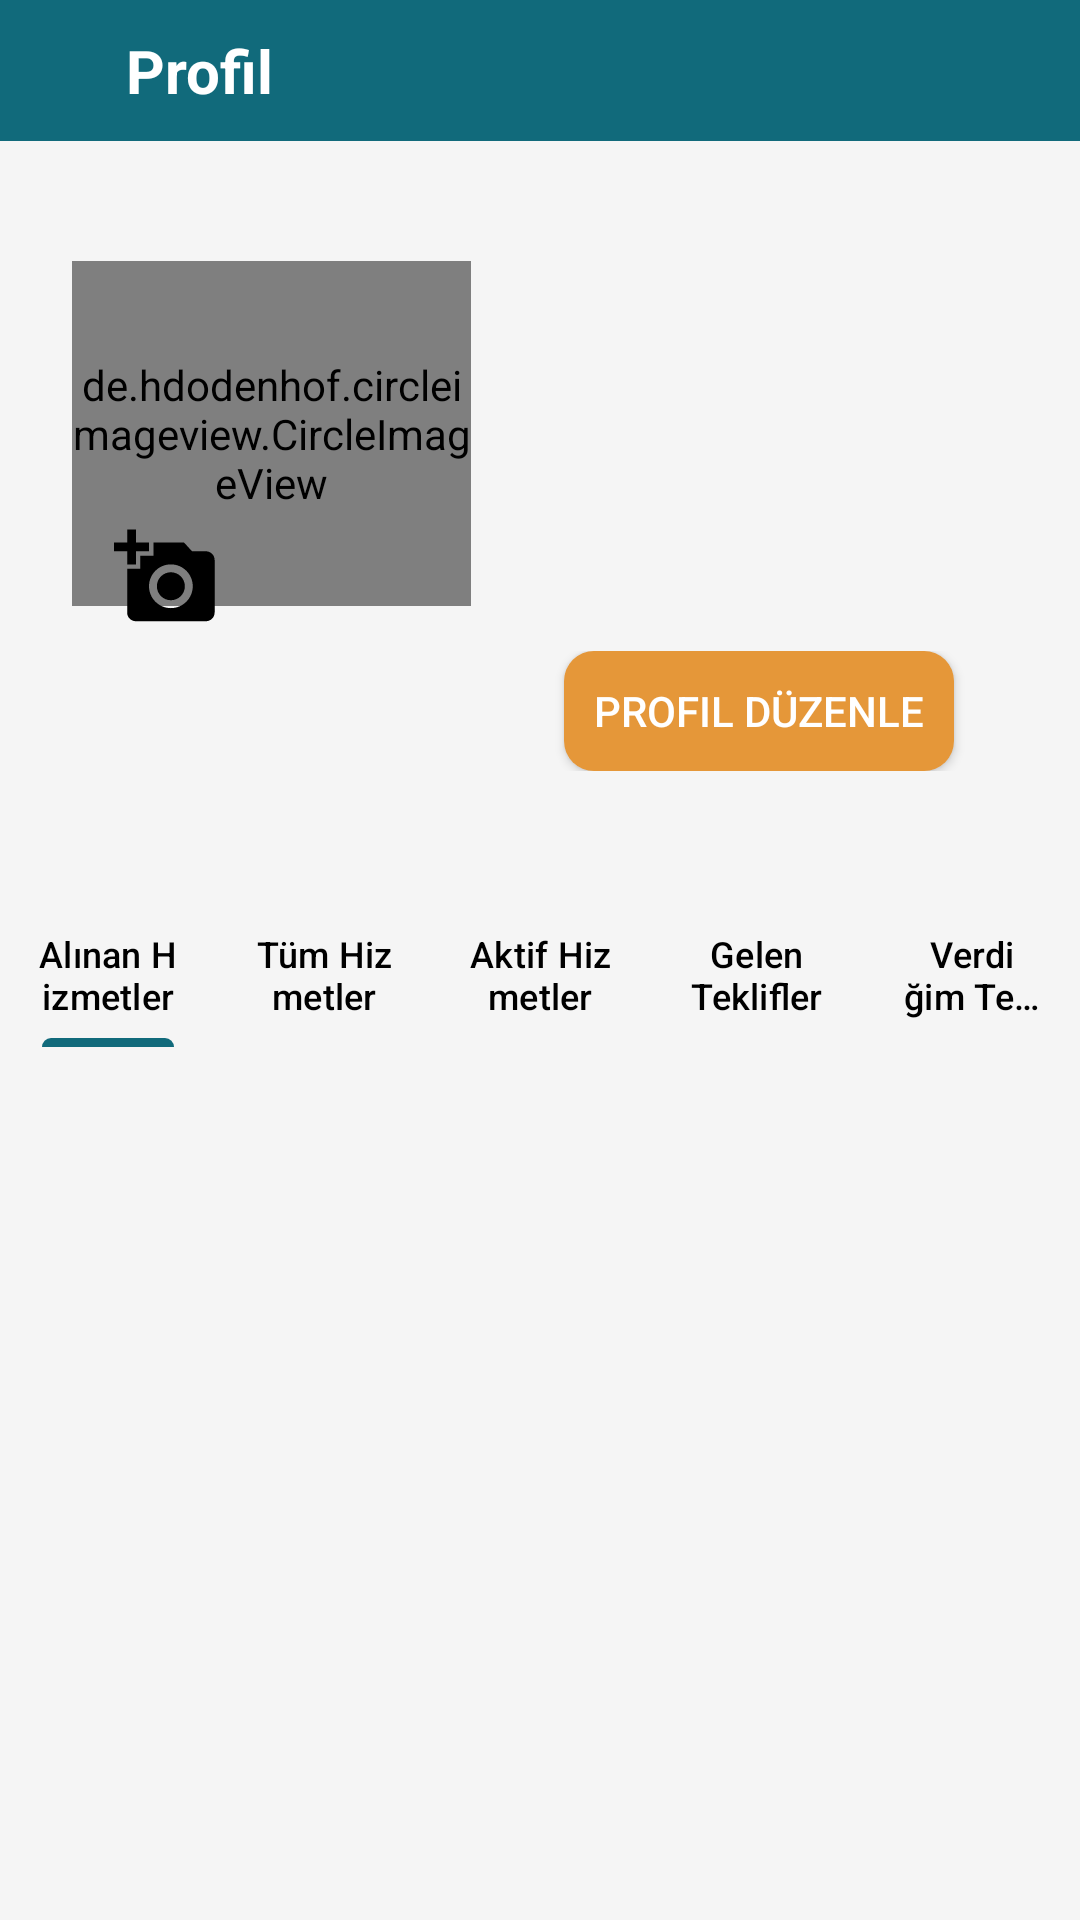

Icon click points for this 1080px x 1920px phone screenshot, format (x,y):
add photo: (166,579)
